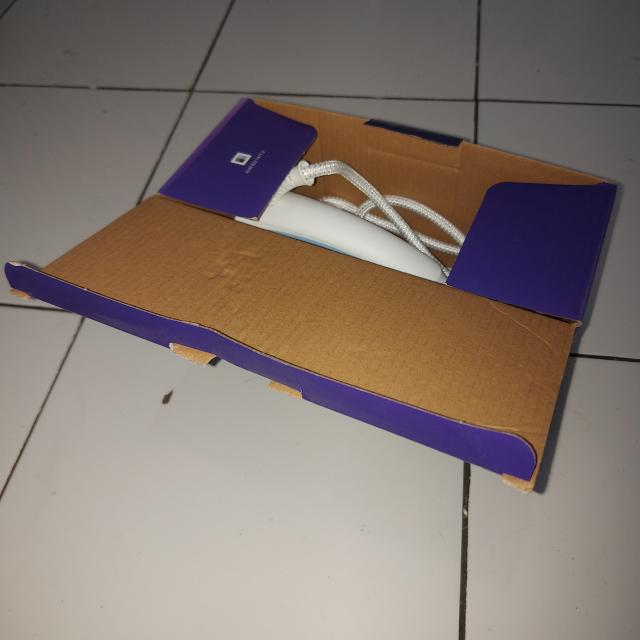Organik: (5, 94, 621, 493)
